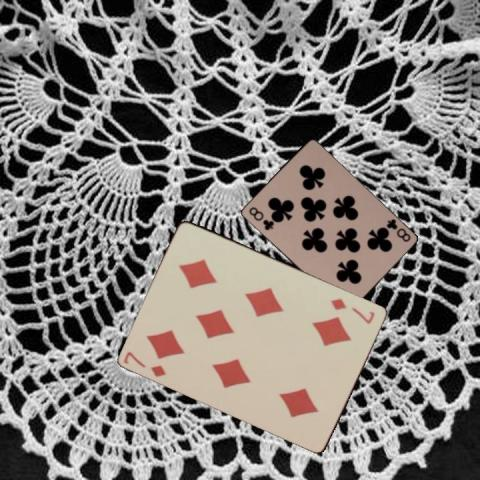7d: (328, 295, 377, 325), (121, 348, 168, 379)
8c: (245, 204, 275, 232), (383, 216, 412, 243)
